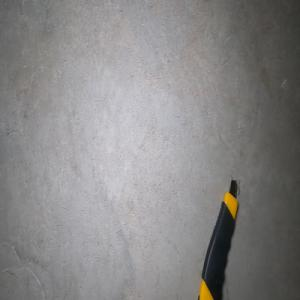Cutter: (197, 178, 238, 300)
